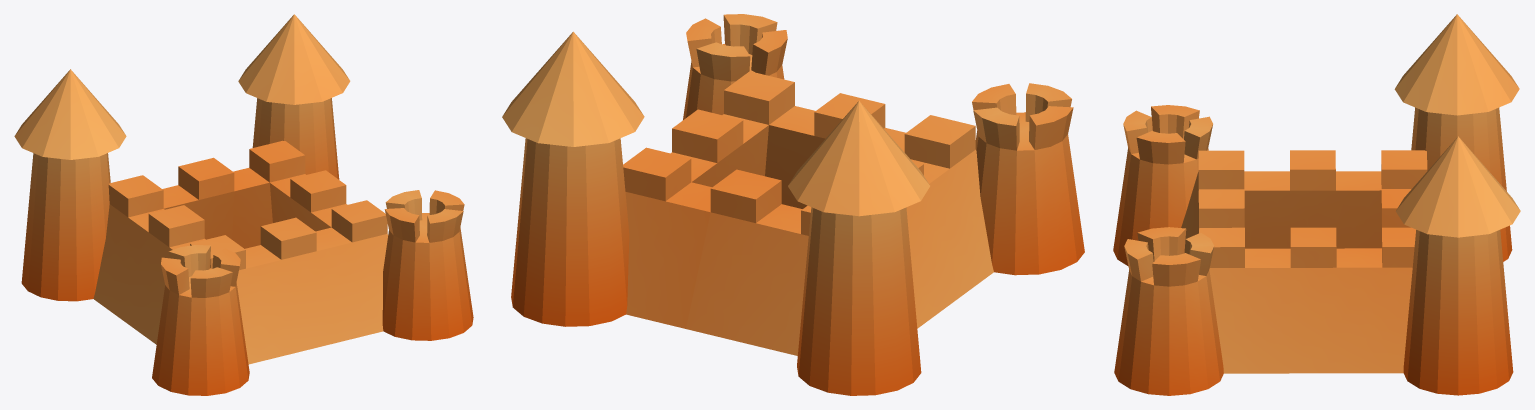
The model's file is kale.fbx.
3 views of the same model, side by side, from view 1: azimuth 30°, elevation 25°; view 2: azimuth 150°, elevation 25°; view 3: azimuth 270°, elevation 25° (orthographic). The views are drawn at different scales.
Visible parts, largest first — view 1: kale; view 2: kale; view 3: kale.
Part boxes in pixels (x1,y1,x2,y2): kale: [14, 14, 473, 395]; kale: [502, 14, 1084, 395]; kale: [1113, 14, 1520, 395].
Bounding box in the file's own units: 338 × 213 × 333.
